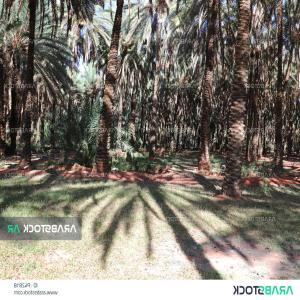palm tree: (0, 0, 74, 168)
